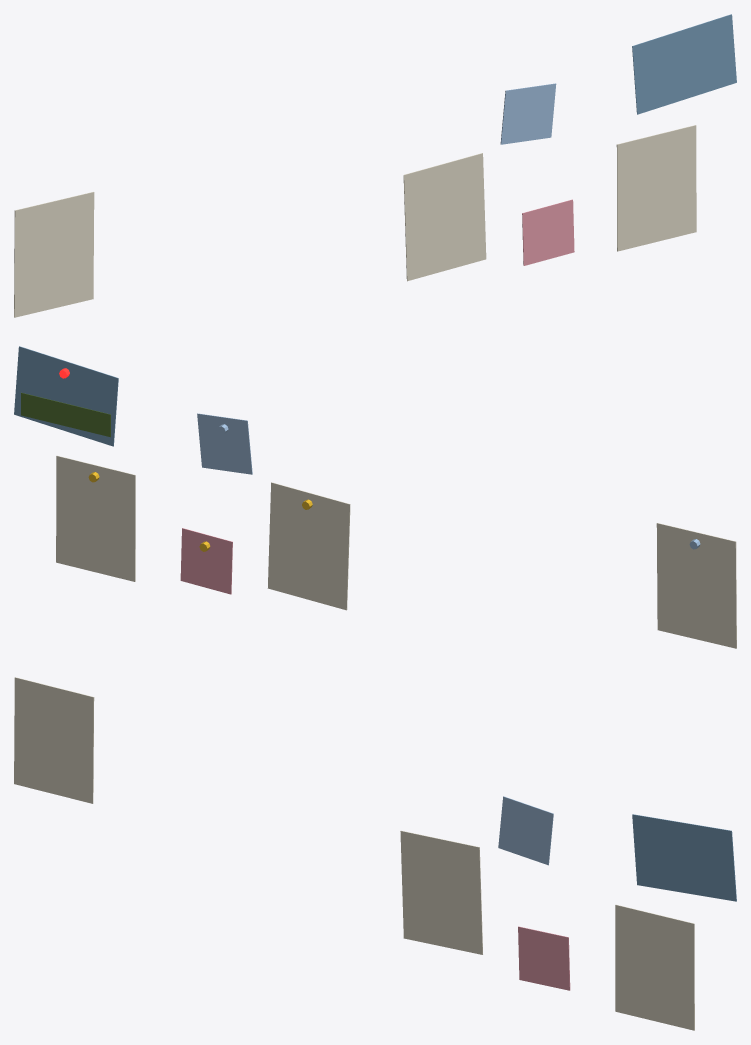
Rendered from SM_80s_CubiclePinup_B.glb.
3 renders of one model, top to bottom at view 1: azimuth 30°, elevation 25°; view 2: azimuth 150°, elevation 25°; view 3: azimuth 330°, elevation 25°, orthographic.
Visible parts, largest first — view 1: SM_80s_CubiclePinup_B; view 2: SM_80s_CubiclePinup_B; view 3: SM_80s_CubiclePinup_B.
Boxes of the visible parts, box(x1,y1,x2,y2) form: SM_80s_CubiclePinup_B: box(14, 14, 736, 317); SM_80s_CubiclePinup_B: box(14, 346, 736, 648); SM_80s_CubiclePinup_B: box(14, 677, 736, 1030).
Bounding box in the file's own units: 1.43 × 0.3948 × 0.0198.
